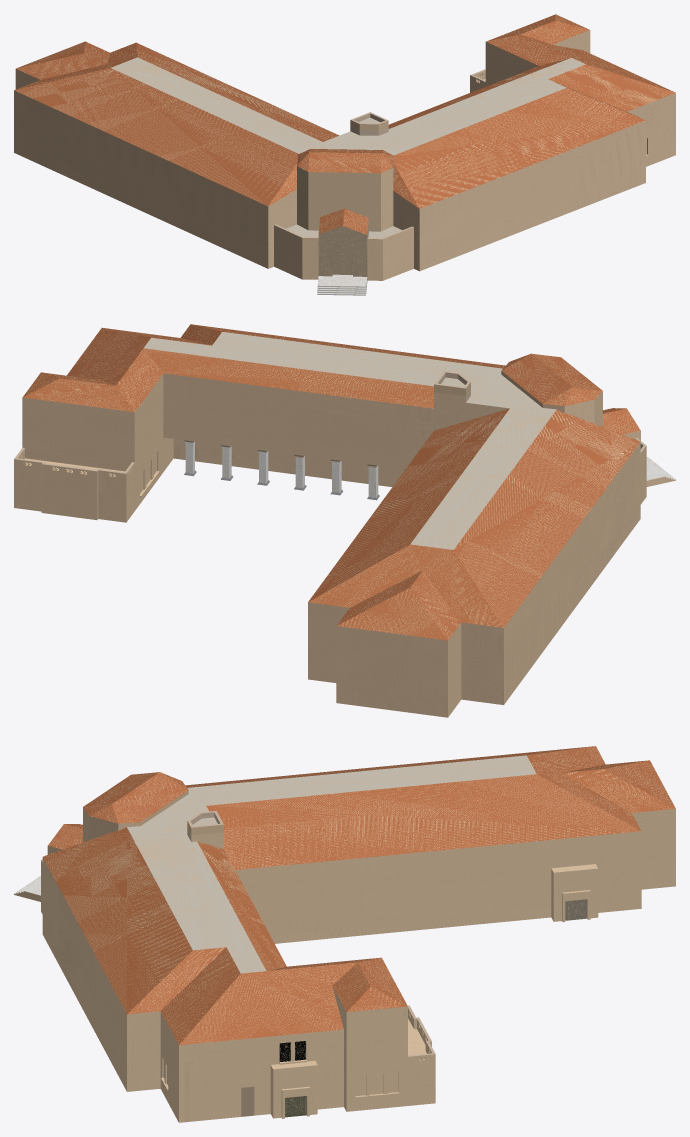
Rendered from test6_centered_exploded_doubleFaced.dae.
3 views of the same model, one above another, from view 1: azimuth 30°, elevation 25°; view 2: azimuth 150°, elevation 25°; view 3: azimuth 270°, elevation 25° (orthographic). The views are drawn at different scales.
Visible parts, largest first — view 1: SketchUp (×10); view 2: SketchUp (×8); view 3: SketchUp (×8).
Part boxes in pixels (left/top/right/bottom): SketchUp (×10): left=14, top=14, right=675, bottom=295; SketchUp (×8): left=14, top=324, right=675, bottom=717; SketchUp (×8): left=14, top=746, right=675, bottom=1122.
Bounding box in the file's own units: 2977 × 2784 × 576.
